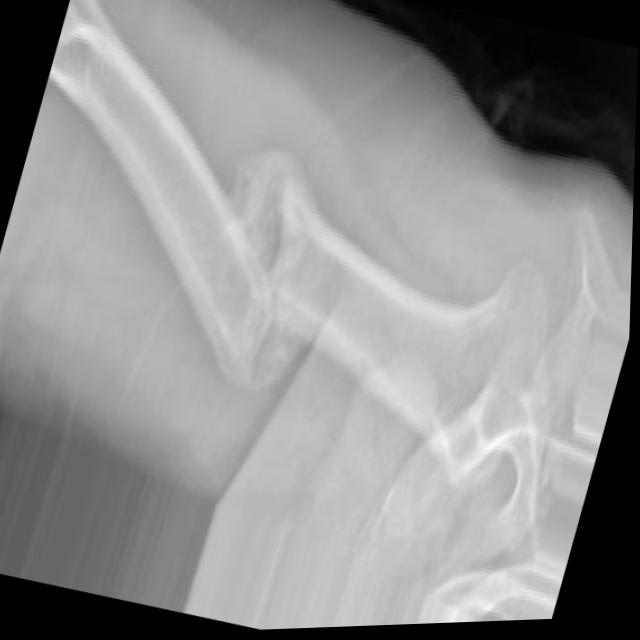fracture: (164, 118, 354, 423)
